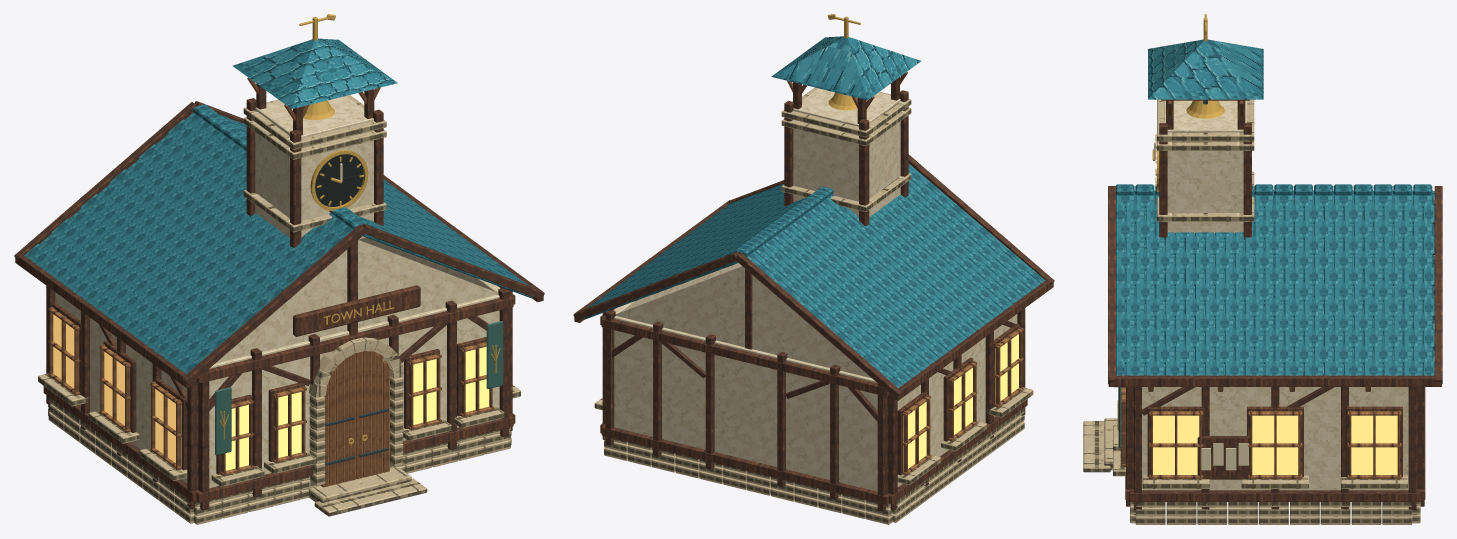
3 renders of one model, left to right at view 1: azimuth 30°, elevation 25°; view 2: azimuth 150°, elevation 25°; view 3: azimuth 270°, elevation 25°, orthographic. The views are drawn at different scales.
Visible parts, largest first — view 1: Roof__hall_roof, Timber frame__hall_timber, Roof__hall_timber, Hall walls__hall_plaster, Roof__hall_roof_light, Roof__hall_plaster, Windows__hall_oak, Windows__hall_window, Entrance__hall_stone_light, Masonry__hall_stone, Clock tower clean hip roof, Tower plaster shaft (+20 smaller); view 2: Roof__hall_roof, Hall walls__hall_plaster, Timber frame__hall_timber, Roof__hall_plaster, Roof__hall_roof_light, Roof__hall_timber, Tower plaster shaft, Masonry__hall_stone, Clock tower clean hip roof, Roof__hall_roof_dark, Windows__hall_oak, Clock tower__hall_stone_light (+6 smaller); view 3: Roof__hall_roof, Roof__hall_roof_light, Hall walls__hall_plaster, Timber frame__hall_timber, Windows__hall_window, Tower plaster shaft, Roof__hall_timber, Clock tower clean hip roof, Masonry__hall_stone, Roof__hall_roof_dark, Windows__hall_oak, Clock tower__hall_stone_light (+7 smaller).
Part boxes in pixels (x1,y1,x2,y2): Roof__hall_roof: (24,112,519,373); Timber frame__hall_timber: (43,286,515,510); Roof__hall_timber: (14,101,544,387); Hall walls__hall_plaster: (55,237,500,488); Roof__hall_roof_light: (58,104,528,355); Roof__hall_plaster: (216,239,498,362); Windows__hall_oak: (48,307,494,476); Windows__hall_window: (53,314,489,470); Entrance__hall_stone_light: (308,337,427,516); Masonry__hall_stone: (48,397,511,523); Clock tower clean hip roof: (232,38,397,108); Tower plaster shaft: (255,96,373,239); Roof__hall_roof: (588,169,1045,387); Hall walls__hall_plaster: (613,263,1017,491); Timber frame__hall_timber: (600,308,1027,511); Roof__hall_plaster: (615,266,871,378); Roof__hall_roof_light: (600,163,1023,362); Roof__hall_timber: (573,154,1054,400); Tower plaster shaft: (793,88,900,217); Masonry__hall_stone: (604,408,1024,522); Clock tower clean hip roof: (771,36,920,100); Roof__hall_roof_dark: (583,190,1022,370); Windows__hall_oak: (902,327,1023,475); Clock tower__hall_stone_light: (781,87,911,211); Roof__hall_roof: (1116,190,1434,375); Roof__hall_roof_light: (1115,184,1432,375); Hall walls__hall_plaster: (1142,387,1408,490); Timber frame__hall_timber: (1125,387,1425,510); Windows__hall_window: (1153,415,1397,474); Tower plaster shaft: (1164,100,1246,234); Roof__hall_timber: (1108,186,1442,386); Clock tower clean hip roof: (1148,39,1263,99); Masonry__hall_stone: (1130,502,1420,524); Roof__hall_roof_dark: (1116,191,1434,374); Windows__hall_oak: (1121,387,1401,479); Clock tower__hall_stone_light: (1157,99,1254,221).
Bounding box in the file's own units: 9.58 × 11.26 × 8.52.
Materials: 14 (8 with a texture image).
